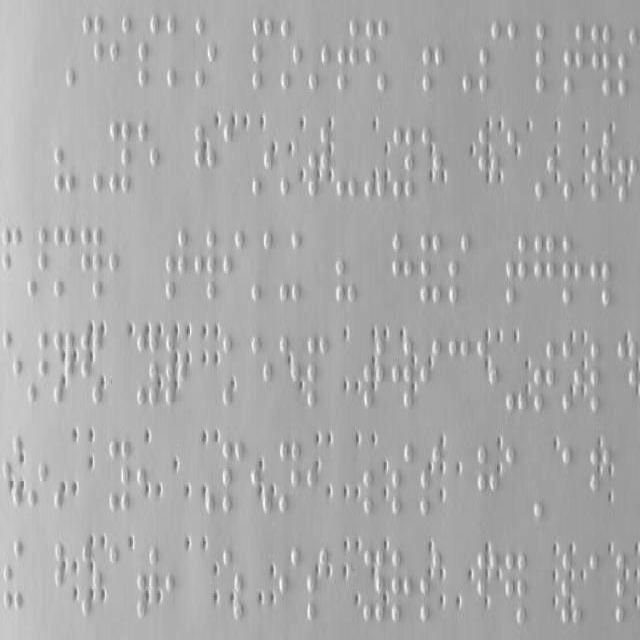braiile: (193, 13, 217, 94), (278, 18, 302, 98), (248, 334, 272, 414), (165, 14, 189, 92), (250, 14, 274, 92), (532, 232, 556, 310), (532, 339, 556, 417), (590, 336, 614, 414), (335, 18, 359, 94), (535, 20, 559, 96), (222, 122, 246, 198), (446, 336, 470, 412), (2, 328, 24, 410), (390, 546, 412, 628), (108, 436, 130, 516), (222, 438, 244, 518), (108, 119, 130, 197), (137, 119, 159, 197), (135, 332, 157, 410), (278, 439, 300, 517), (506, 20, 530, 91), (561, 235, 583, 312), (82, 13, 104, 89), (138, 13, 160, 89), (563, 22, 585, 98), (392, 124, 414, 200), (52, 224, 74, 300), (165, 224, 187, 300), (194, 228, 216, 304), (222, 226, 244, 302), (306, 336, 328, 412), (392, 442, 414, 518), (476, 442, 498, 518), (504, 442, 526, 518), (278, 544, 300, 620), (109, 14, 131, 88), (391, 230, 413, 304), (448, 234, 470, 308), (505, 234, 527, 308), (561, 446, 583, 518), (391, 338, 412, 413), (617, 27, 639, 98), (1, 223, 22, 297), (616, 338, 636, 413), (108, 541, 128, 615), (588, 552, 608, 626)
